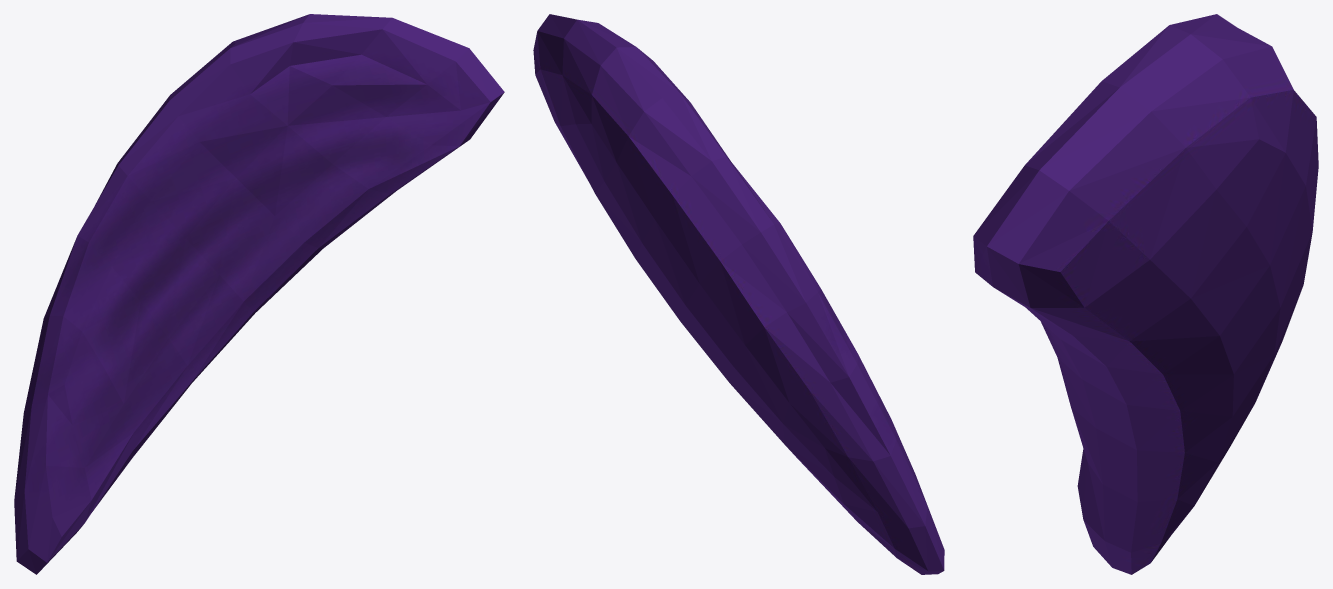
Rendered from SubTool-23-221850.OBJ.
The picture shows the model from 3 angles, left to right: view 1: azimuth 30°, elevation 25°; view 2: azimuth 150°, elevation 25°; view 3: azimuth 270°, elevation 25°; orthographic projection. The views are drawn at different scales.
Visible parts, largest first — view 1: Group10; view 2: Group10; view 3: Group10.
Part boxes in pixels (bbox=[...]): Group10: bbox=[14, 14, 504, 574]; Group10: bbox=[533, 14, 944, 574]; Group10: bbox=[973, 14, 1318, 574].
Size of the model in its own units: 1.37 by 1.38 by 0.561.
Materials: 1 (1 with a texture image).
